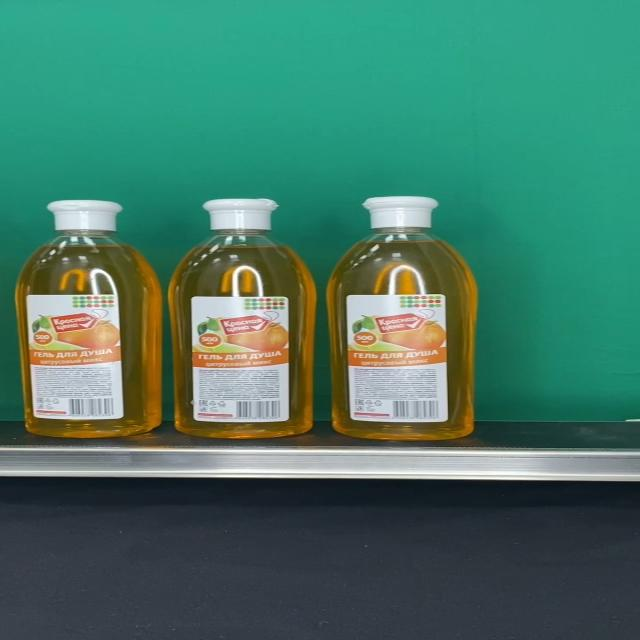Bottle: (327, 196, 478, 440), (169, 198, 317, 438), (16, 199, 162, 437)
Cap: (203, 198, 281, 230), (46, 199, 122, 231), (362, 196, 438, 228)
